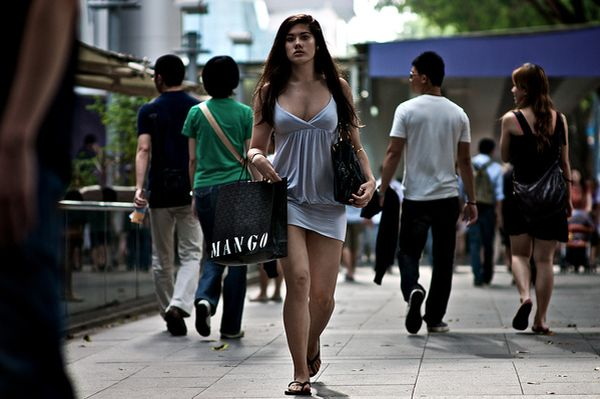person: (237, 7, 385, 399), (378, 41, 483, 340), (176, 53, 273, 349), (493, 54, 578, 338), (125, 51, 205, 336), (452, 129, 508, 286)
